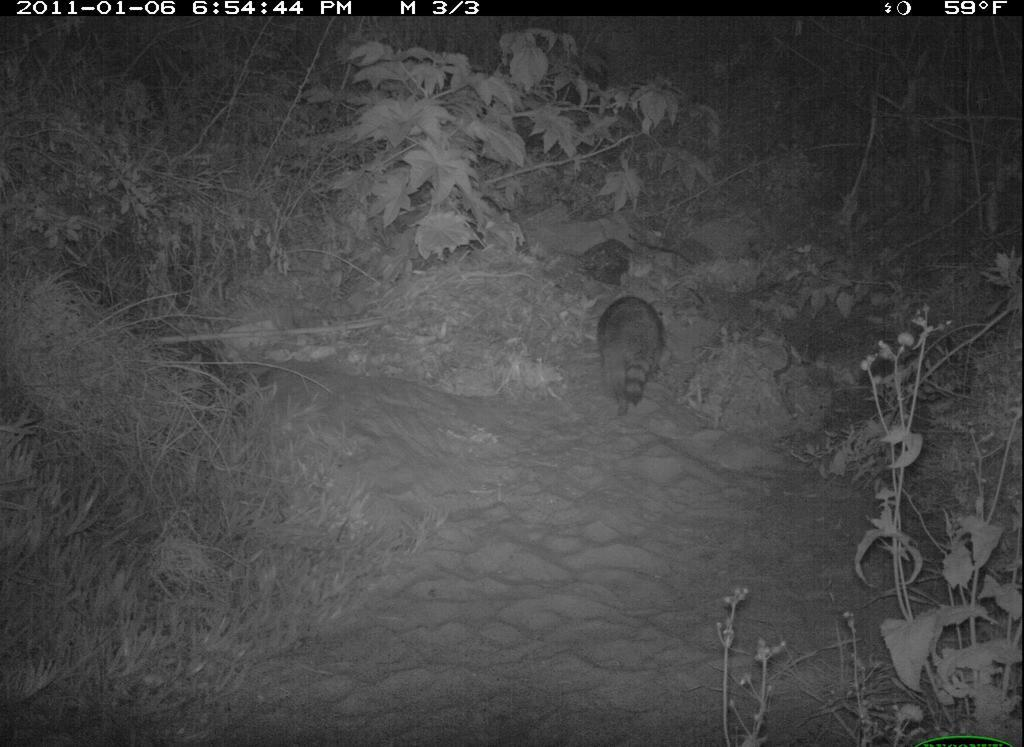raccoon: (593, 286, 676, 419)
